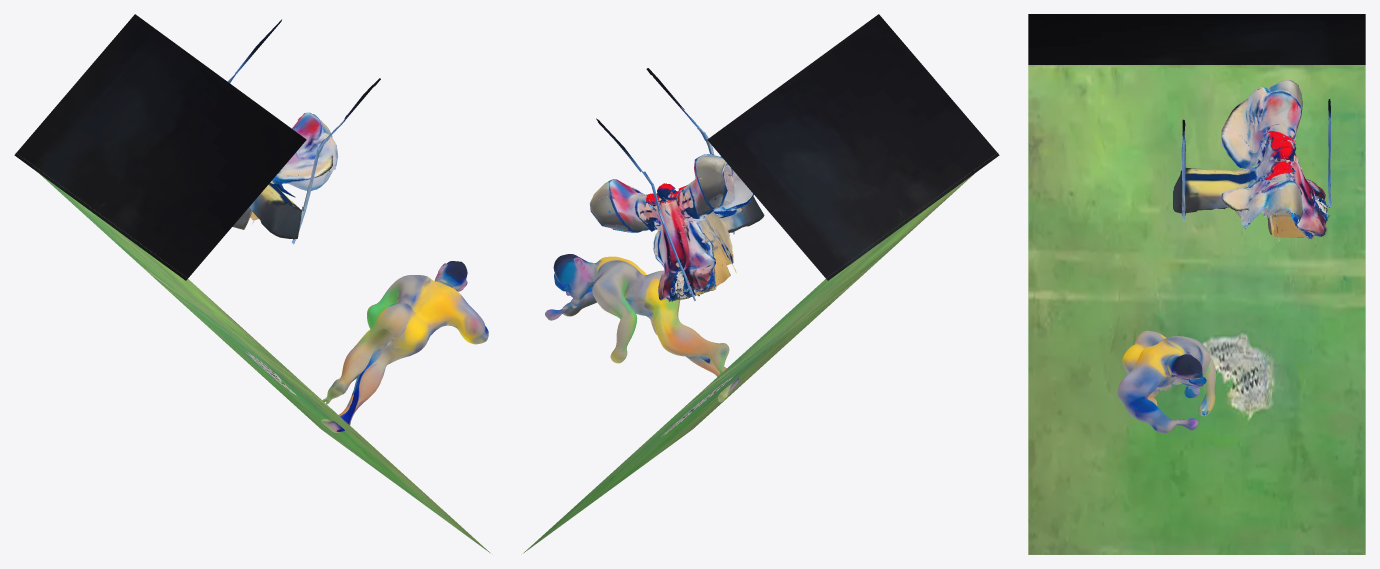
File: baconscene-900-opt-v15.glb
3 renders of one model, left to right at view 1: azimuth 30°, elevation 25°; view 2: azimuth 150°, elevation 25°; view 3: azimuth 270°, elevation 25°, orthographic.
Parts seen in each view (by area): view 1: tripo_material_7098e9e6-9eae-42fb-afb0-03943315a57d.001; view 2: tripo_material_7098e9e6-9eae-42fb-afb0-03943315a57d.001; view 3: tripo_material_7098e9e6-9eae-42fb-afb0-03943315a57d.001.
Part boxes in pixels (x1,y1,x2,y2): tripo_material_7098e9e6-9eae-42fb-afb0-03943315a57d.001: (14, 14, 490, 553); tripo_material_7098e9e6-9eae-42fb-afb0-03943315a57d.001: (523, 14, 999, 553); tripo_material_7098e9e6-9eae-42fb-afb0-03943315a57d.001: (1028, 14, 1365, 554).
Size of the model in its own units: 4.2 by 5 by 3.38.
4 materials, 4 textured.
